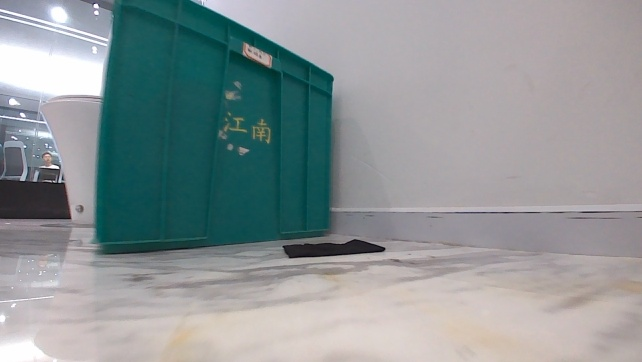socks: (279, 235, 386, 260)
toilet: (36, 91, 102, 226)
